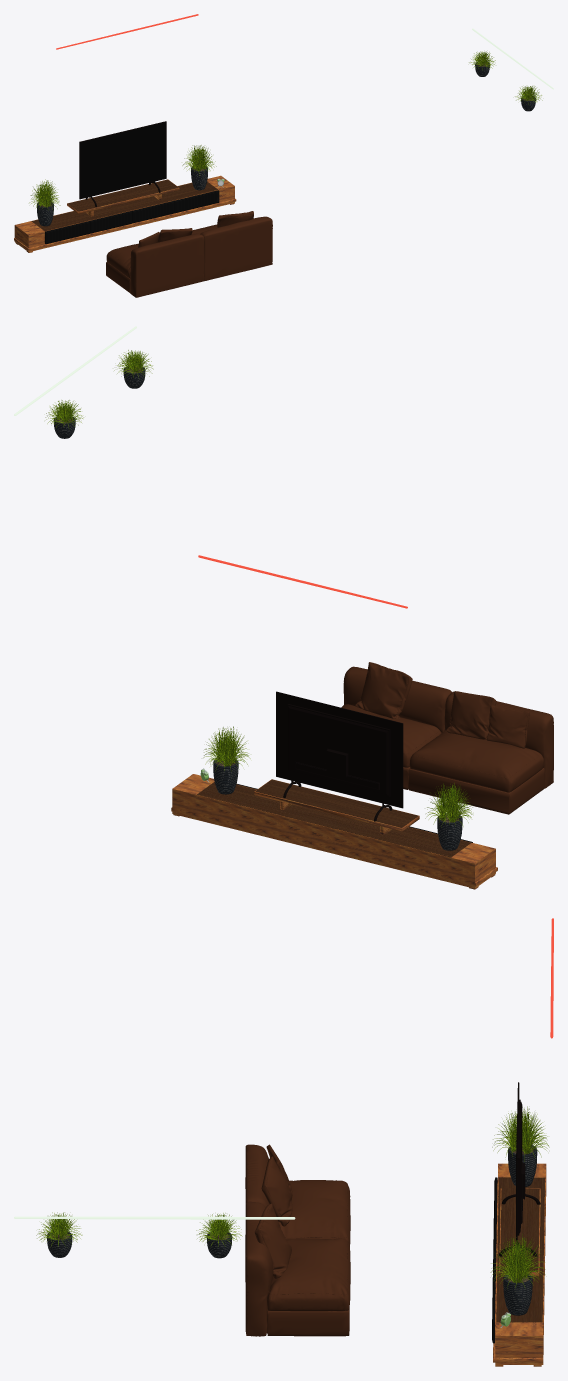
The model's file is lounge.glb.
3 renders of one model, top to bottom at view 1: azimuth 30°, elevation 25°; view 2: azimuth 150°, elevation 25°; view 3: azimuth 270°, elevation 25°, orthographic. The views are drawn at different scales.
Parts seen in each view (by area): view 1: sala; view 2: sala; view 3: sala.
Part boxes in pixels (x1=…): sala: x1=14, y1=14, x2=553, y2=297; sala: x1=14, y1=326, x2=553, y2=889; sala: x1=14, y1=918, x2=553, y2=1366.
Bounding box in the file's own units: 6.54 × 2.95 × 4.6.
13 materials, 9 textured.
